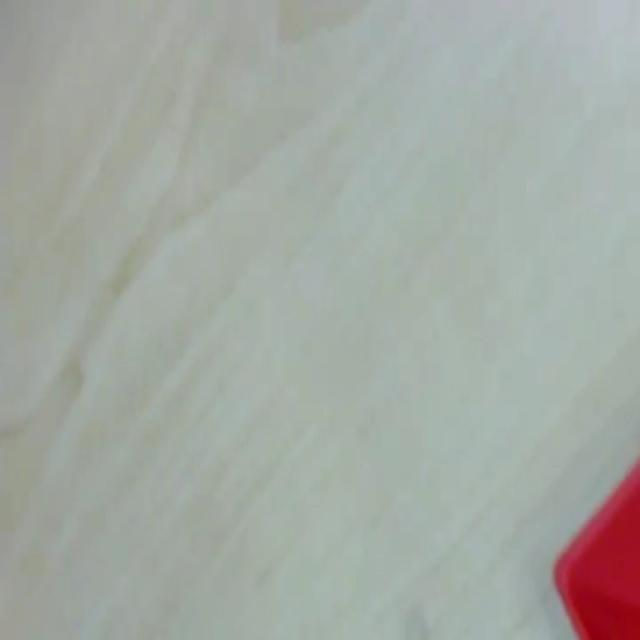red_block: (552, 453, 639, 638)
